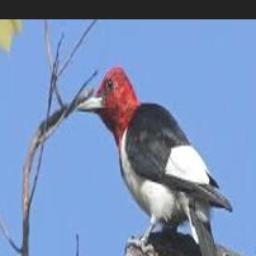Woodpecker: (76, 66, 232, 256)
